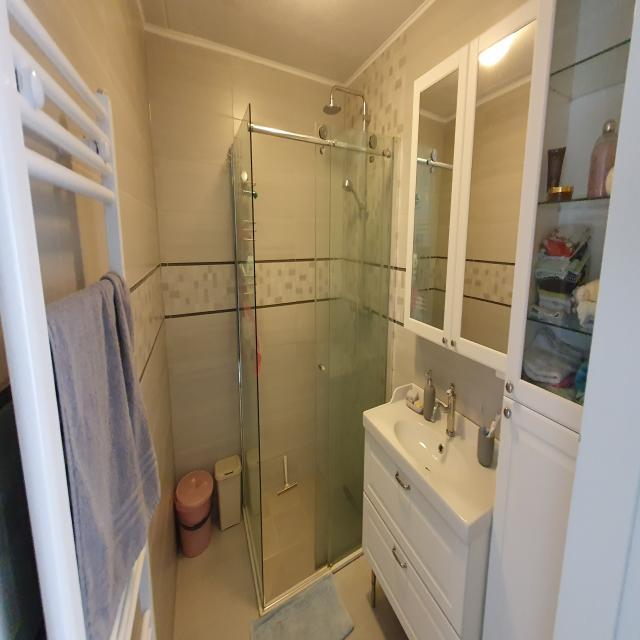designradiator: (0, 0, 157, 640)
douche: (226, 81, 398, 616)
wastafel: (363, 427, 491, 640), (362, 376, 499, 550)
